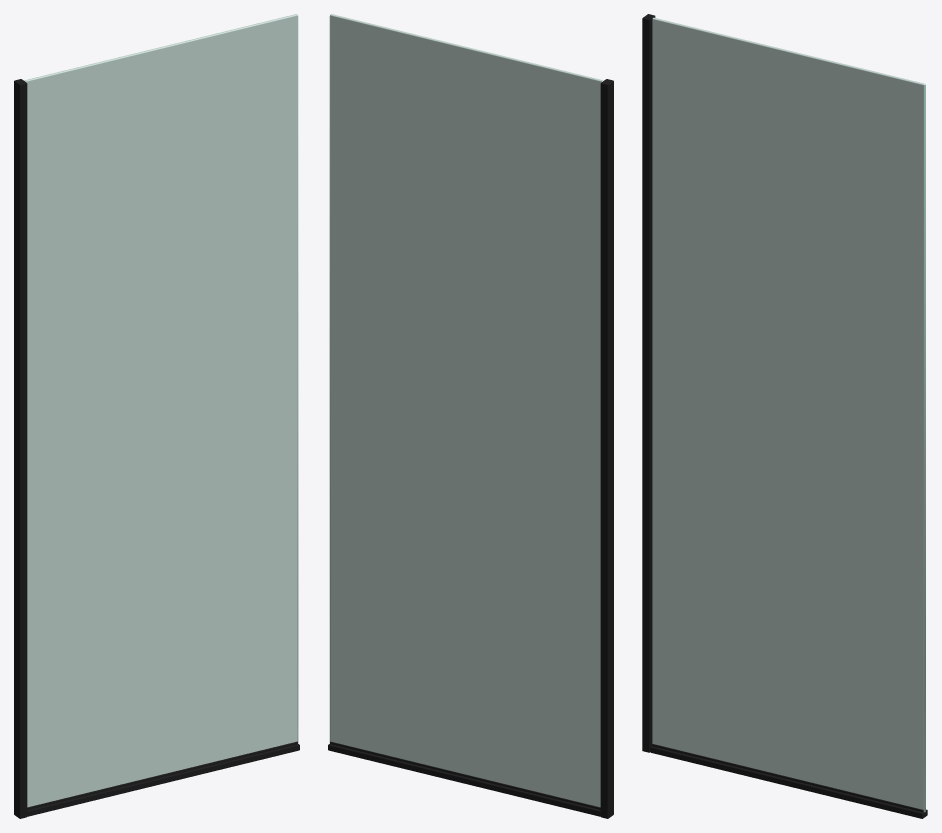
Rendered from shower-screen-800.gltf.
The picture shows the model from 3 angles, left to right: view 1: azimuth 30°, elevation 25°; view 2: azimuth 150°, elevation 25°; view 3: azimuth 330°, elevation 25°; orthographic projection.
Parts seen in each view (by area): view 1: shower-screen; view 2: shower-screen; view 3: shower-screen.
Part boxes in pixels (x1=…): shower-screen: x1=14, y1=14, x2=299, y2=818; shower-screen: x1=328, y1=14, x2=613, y2=818; shower-screen: x1=642, y1=14, x2=927, y2=818.
Size of the model in its own units: 0.8001 by 2 by 0.03.
